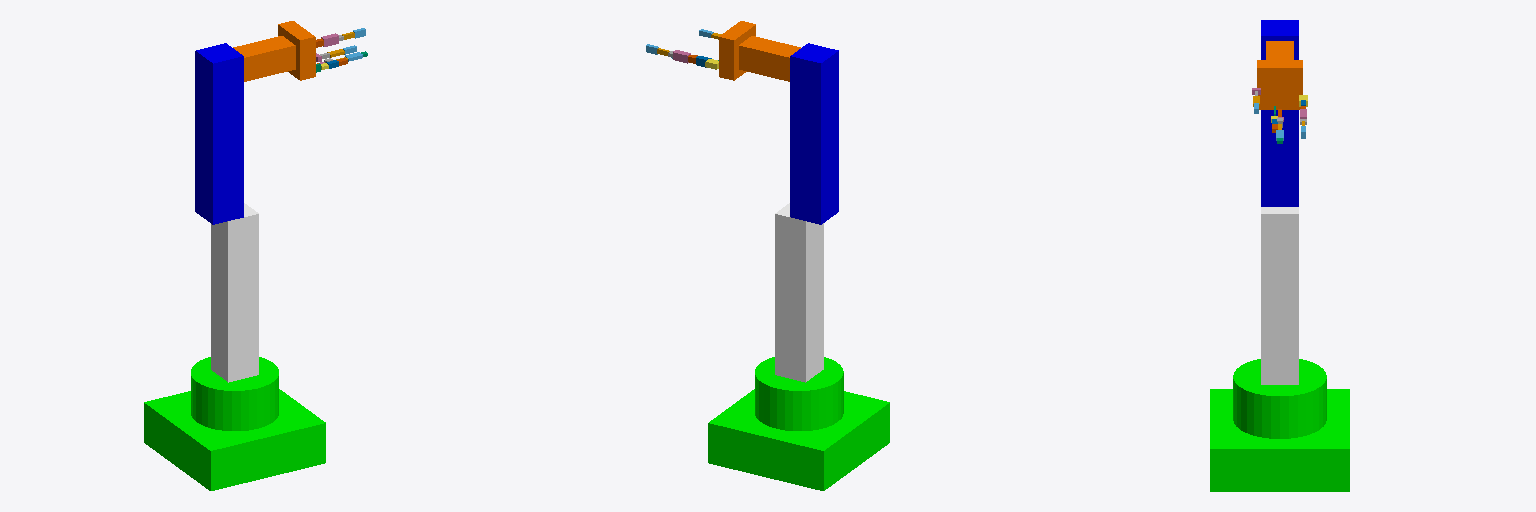
The robot description file, URDF, robot "robot":
<?xml version='1.0' encoding='utf-8'?>
<robot name="robot">
  <link name="base_link">
    <visual>
      <origin xyz="0 0 0.125" rpy="0 0 0" />
      <geometry>
        <box size="0.75 0.75 0.25" />
      </geometry>
      <material name="green" />
    </visual>
    <visual>
      <origin xyz="0 0 0.375" rpy="0 0 0" />
      <geometry>
        <cylinder length="0.25" radius="0.25" />
      </geometry>
      <material name="green">
        <color rgba="0 1 0 1" />
      </material>
    </visual>
    <collision>
      <geometry>
        <box size="0.75 0.75 0.5" />
      </geometry>
    </collision>
    <inertial>
      <mass value="0.5" />
      <inertia ixx="0.034" ixy="0.0" ixz="0.0" iyy="0.034" iyz="0.0" izz="0.034" />
    </inertial>
  </link>
  <link name="support_link">
    <visual>
      <origin xyz="0 0 0.5" rpy="0 0 0" />
      <geometry>
        <box size="0.2 0.2 1" />
      </geometry>
      <material name="white">
        <color rgba="1 1 1 1" />
      </material>
    </visual>
    <collision>
      <geometry>
        <box size="0.2 0.2 1" />
      </geometry>
    </collision>
    <inertial>
      <mass value="0.1" />
      <inertia ixx="0.01" ixy="0.0" ixz="0.0" iyy="0.01" iyz="0.0" izz="0.01" />
    </inertial>
  </link>
  <joint name="support_joint" type="continuous">
    <origin xyz="0 0 0.5" rpy="0 0 0" />
    <parent link="base_link" />
    <child link="support_link" />
    <axis xyz="0 0 1" />
  </joint>
  <link name="arm_link">
    <visual>
      <origin xyz="0 0 0.5" rpy="0 0 0" />
      <geometry>
        <box size="0.2 0.2 1" />
      </geometry>
      <material name="blue">
        <color rgba="0 0 1 1" />
      </material>
    </visual>
    <collision>
      <geometry>
        <box size="0.2 0.2 1" />
      </geometry>
    </collision>
    <inertial>
      <mass value="0.1" />
      <inertia ixx="0.01" ixy="0.0" ixz="0.0" iyy="0.01" iyz="0.0" izz="0.01" />
    </inertial>
  </link>
  <joint name="arm_joint" type="revolute">
    <origin xyz="-0.1 0 1" rpy="0 0 0" />
    <parent link="support_link" />
    <child link="arm_link" />
    <axis xyz="0 1 0" />
    <limit lower="-3.14" upper="3.14" effort="1.0" velocity="1.0" />
  </joint>
  <link name="wrist_link">
    <visual>
      <origin xyz="0 0 0.25" rpy="0 0 0" />
      <geometry>
        <box size="0.15 0.15 0.5" />
      </geometry>
      <material name="orange">
        <color rgba="1 0.5 0 1" />
      </material>
    </visual>
    <collision>
      <geometry>
        <box size="0.15 0.15 0.5" />
      </geometry>
    </collision>
    <inertial>
      <mass value="0.1" />
      <inertia ixx="0.01" ixy="0.0" ixz="0.0" iyy="0.01" iyz="0.0" izz="0.01" />
    </inertial>
  </link>
  <joint name="wrist_joint" type="fixed">
    <origin xyz="0 0 0.9" rpy="0 1.571 0" />
    <parent link="arm_link" />
    <child link="wrist_link" />
  </joint>
  <link name="palm_link">
    <visual>
      <origin xyz="0 0 0.05" rpy="0 0 0" />
      <geometry>
        <box size="0.25 0.25 0.1" />
      </geometry>
      <material name="orange" />
    </visual>
    <collision>
      <geometry>
        <box size="0.25 0.25 0.1" />
      </geometry>
    </collision>
    <inertial>
      <mass value="0.1" />
      <inertia ixx="0.01" ixy="0.0" ixz="0.0" iyy="0.01" iyz="0.0" izz="0.01" />
    </inertial>
  </link>
  <joint name="palm_joint" type="fixed">
    <origin xyz="0 0 0.45" rpy="0 0 0" />
    <parent link="wrist_link" />
    <child link="palm_link" />
  </joint>
  <link name="finger_link_0_0">
    <visual>
      <origin xyz="0 0 0.0495" rpy="0 0 0" />
      <geometry>
        <box size="0.019 0.02 0.099" />
      </geometry>
    </visual>
    <collision>
      <geometry>
        <box size="0.019 0.02 0.099" />
      </geometry>
    </collision>
    <inertial>
      <mass value="0.011" />
      <inertia ixx="0.0" iyy="0.0" izz="0.0" ixy="0" ixz="0" iyz="0" />
    </inertial>
  </link>
  <joint name="finger_joint_palm_link_to_finger_link_0_0" type="revolute">
    <origin xyz="0.125 0.0 0.1" rpy="0 0 0" />
    <parent link="palm_link" />
    <child link="finger_link_0_0" />
    <axis xyz="0.0 1.0 0.0" />
    <limit lower="-3.142" upper="3.142" effort="10" velocity="10" />
  </joint>
  <link name="finger_link_0_1">
    <visual>
      <origin xyz="0 0 0.0185" rpy="0 0 0" />
      <geometry>
        <box size="0.013 0.039 0.037" />
      </geometry>
    </visual>
    <collision>
      <geometry>
        <box size="0.013 0.039 0.037" />
      </geometry>
    </collision>
    <inertial>
      <mass value="0.006" />
      <inertia ixx="0.0" iyy="0.0" izz="0.0" ixy="0" ixz="0" iyz="0" />
    </inertial>
  </link>
  <joint name="finger_joint_finger_link_0_0_to_finger_link_0_1" type="revolute">
    <origin xyz="0.0 0.0 0.099" rpy="0 0 0" />
    <parent link="finger_link_0_0" />
    <child link="finger_link_0_1" />
    <axis xyz="0.0 1.0 0.0" />
    <limit lower="-3.142" upper="3.142" effort="10" velocity="10" />
  </joint>
  <link name="finger_link_0_2">
    <visual>
      <origin xyz="0 0 0.022" rpy="0 0 0" />
      <geometry>
        <box size="0.04 0.029 0.044" />
      </geometry>
    </visual>
    <collision>
      <geometry>
        <box size="0.04 0.029 0.044" />
      </geometry>
    </collision>
    <inertial>
      <mass value="0.015" />
      <inertia ixx="0.0" iyy="0.0" izz="0.0" ixy="0" ixz="0" iyz="0" />
    </inertial>
  </link>
  <joint name="finger_joint_finger_link_0_1_to_finger_link_0_2" type="revolute">
    <origin xyz="0.0 0.0 0.037" rpy="0 0 0" />
    <parent link="finger_link_0_1" />
    <child link="finger_link_0_2" />
    <axis xyz="1.0 0.0 0.0" />
    <limit lower="-3.142" upper="3.142" effort="10" velocity="10" />
  </joint>
  <link name="finger_link_0_3">
    <visual>
      <origin xyz="0 0 0.047" rpy="0 0 0" />
      <geometry>
        <box size="0.011 0.022 0.094" />
      </geometry>
    </visual>
    <collision>
      <geometry>
        <box size="0.011 0.022 0.094" />
      </geometry>
    </collision>
    <inertial>
      <mass value="0.007" />
      <inertia ixx="0.0" iyy="0.0" izz="0.0" ixy="0" ixz="0" iyz="0" />
    </inertial>
  </link>
  <joint name="finger_joint_finger_link_0_2_to_finger_link_0_3" type="revolute">
    <origin xyz="0.0 0.0 0.044" rpy="0 0 0" />
    <parent link="finger_link_0_2" />
    <child link="finger_link_0_3" />
    <axis xyz="0.0 1.0 0.0" />
    <limit lower="-3.142" upper="3.142" effort="10" velocity="10" />
  </joint>
  <link name="finger_link_0_4">
    <visual>
      <origin xyz="0 0 0.0475" rpy="0 0 0" />
      <geometry>
        <box size="0.019 0.046 0.095" />
      </geometry>
    </visual>
    <collision>
      <geometry>
        <box size="0.019 0.046 0.095" />
      </geometry>
    </collision>
    <inertial>
      <mass value="0.025" />
      <inertia ixx="0.0" iyy="0.0" izz="0.0" ixy="0" ixz="0" iyz="0" />
    </inertial>
  </link>
  <joint name="finger_joint_finger_link_0_3_to_finger_link_0_4" type="revolute">
    <origin xyz="0.0 0.0 0.094" rpy="0 0 0" />
    <parent link="finger_link_0_3" />
    <child link="finger_link_0_4" />
    <axis xyz="0.0 1.0 0.0" />
    <limit lower="-3.142" upper="3.142" effort="10" velocity="10" />
  </joint>
  <link name="finger_link_0_5">
    <visual>
      <origin xyz="0 0 0.018" rpy="0 0 0" />
      <geometry>
        <box size="0.017 0.031 0.036" />
      </geometry>
    </visual>
    <collision>
      <geometry>
        <box size="0.017 0.031 0.036" />
      </geometry>
    </collision>
    <inertial>
      <mass value="0.006" />
      <inertia ixx="0.0" iyy="0.0" izz="0.0" ixy="0" ixz="0" iyz="0" />
    </inertial>
  </link>
  <joint name="finger_joint_finger_link_0_4_to_finger_link_0_5" type="revolute">
    <origin xyz="0.0 0.0 0.095" rpy="0 0 0" />
    <parent link="finger_link_0_4" />
    <child link="finger_link_0_5" />
    <axis xyz="1.0 0.0 0.0" />
    <limit lower="-3.142" upper="3.142" effort="10" velocity="10" />
  </joint>
  <link name="finger_link_1_0">
    <visual>
      <origin xyz="0 0 0.037" rpy="0 0 0" />
      <geometry>
        <box size="0.033 0.046 0.074" />
      </geometry>
    </visual>
    <collision>
      <geometry>
        <box size="0.033 0.046 0.074" />
      </geometry>
    </collision>
    <inertial>
      <mass value="0.034" />
      <inertia ixx="0.0" iyy="0.0" izz="0.0" ixy="0" ixz="0" iyz="0" />
    </inertial>
  </link>
  <joint name="finger_joint_palm_link_to_finger_link_1_0" type="revolute">
    <origin xyz="0.054 0.125 0.1" rpy="0 0 0" />
    <parent link="palm_link" />
    <child link="finger_link_1_0" />
    <axis xyz="-1.0 0.0 0.0" />
    <limit lower="-3.142" upper="3.142" effort="10" velocity="10" />
  </joint>
  <link name="finger_link_1_1">
    <visual>
      <origin xyz="0 0 0.0335" rpy="0 0 0" />
      <geometry>
        <box size="0.047 0.031 0.067" />
      </geometry>
    </visual>
    <collision>
      <geometry>
        <box size="0.047 0.031 0.067" />
      </geometry>
    </collision>
    <inertial>
      <mass value="0.029" />
      <inertia ixx="0.0" iyy="0.0" izz="0.0" ixy="0" ixz="0" iyz="0" />
    </inertial>
  </link>
  <joint name="finger_joint_finger_link_1_0_to_finger_link_1_1" type="revolute">
    <origin xyz="0.0 0.0 0.074" rpy="0 0 0" />
    <parent link="finger_link_1_0" />
    <child link="finger_link_1_1" />
    <axis xyz="1.0 0.0 0.0" />
    <limit lower="-3.142" upper="3.142" effort="10" velocity="10" />
  </joint>
  <link name="finger_link_1_2">
    <visual>
      <origin xyz="0 0 0.025" rpy="0 0 0" />
      <geometry>
        <box size="0.036 0.027 0.05" />
      </geometry>
    </visual>
    <collision>
      <geometry>
        <box size="0.036 0.027 0.05" />
      </geometry>
    </collision>
    <inertial>
      <mass value="0.015" />
      <inertia ixx="0.0" iyy="0.0" izz="0.0" ixy="0" ixz="0" iyz="0" />
    </inertial>
  </link>
  <joint name="finger_joint_finger_link_1_1_to_finger_link_1_2" type="revolute">
    <origin xyz="0.0 0.0 0.067" rpy="0 0 0" />
    <parent link="finger_link_1_1" />
    <child link="finger_link_1_2" />
    <axis xyz="0.0 1.0 0.0" />
    <limit lower="-3.142" upper="3.142" effort="10" velocity="10" />
  </joint>
  <link name="finger_link_1_3">
    <visual>
      <origin xyz="0 0 0.0485" rpy="0 0 0" />
      <geometry>
        <box size="0.049 0.038 0.097" />
      </geometry>
    </visual>
    <collision>
      <geometry>
        <box size="0.049 0.038 0.097" />
      </geometry>
    </collision>
    <inertial>
      <mass value="0.054" />
      <inertia ixx="0.0" iyy="0.0" izz="0.0" ixy="0" ixz="0" iyz="0" />
    </inertial>
  </link>
  <joint name="finger_joint_finger_link_1_2_to_finger_link_1_3" type="revolute">
    <origin xyz="0.0 0.0 0.05" rpy="0 0 0" />
    <parent link="finger_link_1_2" />
    <child link="finger_link_1_3" />
    <axis xyz="0.0 1.0 0.0" />
    <limit lower="-3.142" upper="3.142" effort="10" velocity="10" />
  </joint>
  <link name="finger_link_1_4">
    <visual>
      <origin xyz="0 0 0.0155" rpy="0 0 0" />
      <geometry>
        <box size="0.021 0.034 0.031" />
      </geometry>
    </visual>
    <collision>
      <geometry>
        <box size="0.021 0.034 0.031" />
      </geometry>
    </collision>
    <inertial>
      <mass value="0.007" />
      <inertia ixx="0.0" iyy="0.0" izz="0.0" ixy="0" ixz="0" iyz="0" />
    </inertial>
  </link>
  <joint name="finger_joint_finger_link_1_3_to_finger_link_1_4" type="revolute">
    <origin xyz="0.0 0.0 0.097" rpy="0 0 0" />
    <parent link="finger_link_1_3" />
    <child link="finger_link_1_4" />
    <axis xyz="0.0 1.0 0.0" />
    <limit lower="-3.142" upper="3.142" effort="10" velocity="10" />
  </joint>
  <link name="finger_link_1_5">
    <visual>
      <origin xyz="0 0 0.0375" rpy="0 0 0" />
      <geometry>
        <box size="0.029 0.018 0.075" />
      </geometry>
    </visual>
    <collision>
      <geometry>
        <box size="0.029 0.018 0.075" />
      </geometry>
    </collision>
    <inertial>
      <mass value="0.012" />
      <inertia ixx="0.0" iyy="0.0" izz="0.0" ixy="0" ixz="0" iyz="0" />
    </inertial>
  </link>
  <joint name="finger_joint_finger_link_1_4_to_finger_link_1_5" type="revolute">
    <origin xyz="0.0 0.0 0.031" rpy="0 0 0" />
    <parent link="finger_link_1_4" />
    <child link="finger_link_1_5" />
    <axis xyz="0.0 1.0 0.0" />
    <limit lower="-3.142" upper="3.142" effort="10" velocity="10" />
  </joint>
  <link name="finger_link_1_6">
    <visual>
      <origin xyz="0 0 0.037" rpy="0 0 0" />
      <geometry>
        <box size="0.041 0.024 0.074" />
      </geometry>
    </visual>
    <collision>
      <geometry>
        <box size="0.041 0.024 0.074" />
      </geometry>
    </collision>
    <inertial>
      <mass value="0.022" />
      <inertia ixx="0.0" iyy="0.0" izz="0.0" ixy="0" ixz="0" iyz="0" />
    </inertial>
  </link>
  <joint name="finger_joint_finger_link_1_5_to_finger_link_1_6" type="revolute">
    <origin xyz="0.0 0.0 0.075" rpy="0 0 0" />
    <parent link="finger_link_1_5" />
    <child link="finger_link_1_6" />
    <axis xyz="0.0 1.0 0.0" />
    <limit lower="-3.142" upper="3.142" effort="10" velocity="10" />
  </joint>
  <link name="finger_link_2_0">
    <visual>
      <origin xyz="0 0 0.045" rpy="0 0 0" />
      <geometry>
        <box size="0.046 0.012 0.09" />
      </geometry>
    </visual>
    <collision>
      <geometry>
        <box size="0.046 0.012 0.09" />
      </geometry>
    </collision>
    <inertial>
      <mass value="0.015" />
      <inertia ixx="0.0" iyy="0.0" izz="0.0" ixy="0" ixz="0" iyz="0" />
    </inertial>
  </link>
  <joint name="finger_joint_palm_link_to_finger_link_2_0" type="revolute">
    <origin xyz="0.125 -0.027 0.1" rpy="0 0 0" />
    <parent link="palm_link" />
    <child link="finger_link_2_0" />
    <axis xyz="0.0 1.0 0.0" />
    <limit lower="-3.142" upper="3.142" effort="10" velocity="10" />
  </joint>
  <link name="finger_link_2_1">
    <visual>
      <origin xyz="0 0 0.023" rpy="0 0 0" />
      <geometry>
        <box size="0.02 0.037 0.046" />
      </geometry>
    </visual>
    <collision>
      <geometry>
        <box size="0.02 0.037 0.046" />
      </geometry>
    </collision>
    <inertial>
      <mass value="0.01" />
      <inertia ixx="0.0" iyy="0.0" izz="0.0" ixy="0" ixz="0" iyz="0" />
    </inertial>
  </link>
  <joint name="finger_joint_finger_link_2_0_to_finger_link_2_1" type="revolute">
    <origin xyz="0.0 0.0 0.09" rpy="0 0 0" />
    <parent link="finger_link_2_0" />
    <child link="finger_link_2_1" />
    <axis xyz="1.0 0.0 0.0" />
    <limit lower="-3.142" upper="3.142" effort="10" velocity="10" />
  </joint>
  <link name="finger_link_2_2">
    <visual>
      <origin xyz="0 0 0.0325" rpy="0 0 0" />
      <geometry>
        <box size="0.03 0.032 0.065" />
      </geometry>
    </visual>
    <collision>
      <geometry>
        <box size="0.03 0.032 0.065" />
      </geometry>
    </collision>
    <inertial>
      <mass value="0.019" />
      <inertia ixx="0.0" iyy="0.0" izz="0.0" ixy="0" ixz="0" iyz="0" />
    </inertial>
  </link>
  <joint name="finger_joint_finger_link_2_1_to_finger_link_2_2" type="revolute">
    <origin xyz="0.0 0.0 0.046" rpy="0 0 0" />
    <parent link="finger_link_2_1" />
    <child link="finger_link_2_2" />
    <axis xyz="0.0 1.0 0.0" />
    <limit lower="-3.142" upper="3.142" effort="10" velocity="10" />
  </joint>
  <link name="finger_link_2_3">
    <visual>
      <origin xyz="0 0 0.029" rpy="0 0 0" />
      <geometry>
        <box size="0.024 0.031 0.058" />
      </geometry>
    </visual>
    <collision>
      <geometry>
        <box size="0.024 0.031 0.058" />
      </geometry>
    </collision>
    <inertial>
      <mass value="0.013" />
      <inertia ixx="0.0" iyy="0.0" izz="0.0" ixy="0" ixz="0" iyz="0" />
    </inertial>
  </link>
  <joint name="finger_joint_finger_link_2_2_to_finger_link_2_3" type="revolute">
    <origin xyz="0.0 0.0 0.065" rpy="0 0 0" />
    <parent link="finger_link_2_2" />
    <child link="finger_link_2_3" />
    <axis xyz="0.0 1.0 0.0" />
    <limit lower="-3.142" upper="3.142" effort="10" velocity="10" />
  </joint>
  <link name="finger_link_3_0">
    <visual>
      <origin xyz="0 0 0.0125" rpy="0 0 0" />
      <geometry>
        <box size="0.032 0.049 0.025" />
      </geometry>
    </visual>
    <collision>
      <geometry>
        <box size="0.032 0.049 0.025" />
      </geometry>
    </collision>
    <inertial>
      <mass value="0.012" />
      <inertia ixx="0.0" iyy="0.0" izz="0.0" ixy="0" ixz="0" iyz="0" />
    </inertial>
  </link>
  <joint name="finger_joint_palm_link_to_finger_link_3_0" type="revolute">
    <origin xyz="0.009 -0.125 0.1" rpy="0 0 0" />
    <parent link="palm_link" />
    <child link="finger_link_3_0" />
    <axis xyz="1.0 0.0 0.0" />
    <limit lower="-3.142" upper="3.142" effort="10" velocity="10" />
  </joint>
  <link name="finger_link_3_1">
    <visual>
      <origin xyz="0 0 0.0315" rpy="0 0 0" />
      <geometry>
        <box size="0.024 0.02 0.063" />
      </geometry>
    </visual>
    <collision>
      <geometry>
        <box size="0.024 0.02 0.063" />
      </geometry>
    </collision>
    <inertial>
      <mass value="0.009" />
      <inertia ixx="0.0" iyy="0.0" izz="0.0" ixy="0" ixz="0" iyz="0" />
    </inertial>
  </link>
  <joint name="finger_joint_finger_link_3_0_to_finger_link_3_1" type="revolute">
    <origin xyz="0.0 0.0 0.025" rpy="0 0 0" />
    <parent link="finger_link_3_0" />
    <child link="finger_link_3_1" />
    <axis xyz="0.0 1.0 0.0" />
    <limit lower="-3.142" upper="3.142" effort="10" velocity="10" />
  </joint>
  <link name="finger_link_3_2">
    <visual>
      <origin xyz="0 0 0.0475" rpy="0 0 0" />
      <geometry>
        <box size="0.019 0.036 0.095" />
      </geometry>
    </visual>
    <collision>
      <geometry>
        <box size="0.019 0.036 0.095" />
      </geometry>
    </collision>
    <inertial>
      <mass value="0.019" />
      <inertia ixx="0.0" iyy="0.0" izz="0.0" ixy="0" ixz="0" iyz="0" />
    </inertial>
  </link>
  <joint name="finger_joint_finger_link_3_1_to_finger_link_3_2" type="revolute">
    <origin xyz="0.0 0.0 0.063" rpy="0 0 0" />
    <parent link="finger_link_3_1" />
    <child link="finger_link_3_2" />
    <axis xyz="1.0 0.0 0.0" />
    <limit lower="-3.142" upper="3.142" effort="10" velocity="10" />
  </joint>
  <link name="finger_link_3_3">
    <visual>
      <origin xyz="0 0 0.04" rpy="0 0 0" />
      <geometry>
        <box size="0.03 0.026 0.08" />
      </geometry>
    </visual>
    <collision>
      <geometry>
        <box size="0.03 0.026 0.08" />
      </geometry>
    </collision>
    <inertial>
      <mass value="0.019" />
      <inertia ixx="0.0" iyy="0.0" izz="0.0" ixy="0" ixz="0" iyz="0" />
    </inertial>
  </link>
  <joint name="finger_joint_finger_link_3_2_to_finger_link_3_3" type="revolute">
    <origin xyz="0.0 0.0 0.095" rpy="0 0 0" />
    <parent link="finger_link_3_2" />
    <child link="finger_link_3_3" />
    <axis xyz="1.0 0.0 0.0" />
    <limit lower="-3.142" upper="3.142" effort="10" velocity="10" />
  </joint>
</robot>

--- What the picture shows (computed from the rendered views, not written in the file) ---
The picture shows the robot from 3 angles, left to right: view 1: azimuth 30°, elevation 25°; view 2: azimuth 150°, elevation 25°; view 3: azimuth 270°, elevation 25°; orthographic projection.
Robot: robot — 26 links, 25 joints (22 revolute, 1 continuous, 2 fixed); root link base_link; default pose: every joint at zero.
Links seen in each view (by area): view 1: base_link, arm_link, support_link, wrist_link, palm_link; view 2: base_link, arm_link, support_link, wrist_link, palm_link; view 3: base_link, support_link, arm_link, palm_link, wrist_link.
Link boxes in pixels (x1,y1,x2,y2): base_link: [144, 357, 325, 490]; arm_link: [195, 43, 243, 224]; support_link: [211, 203, 258, 382]; wrist_link: [233, 36, 295, 81]; palm_link: [278, 21, 315, 80]; base_link: [708, 357, 889, 490]; arm_link: [790, 43, 838, 224]; support_link: [775, 203, 823, 382]; wrist_link: [739, 36, 800, 81]; palm_link: [719, 21, 755, 80]; base_link: [1210, 359, 1349, 491]; support_link: [1261, 207, 1298, 384]; arm_link: [1261, 20, 1298, 206]; palm_link: [1257, 60, 1302, 109]; wrist_link: [1266, 41, 1293, 59].
Size in the robot's own frame: 1.29 by 0.75 by 2.52 metres.
Geometry: primitives only (box / cylinder / sphere), no mesh files.